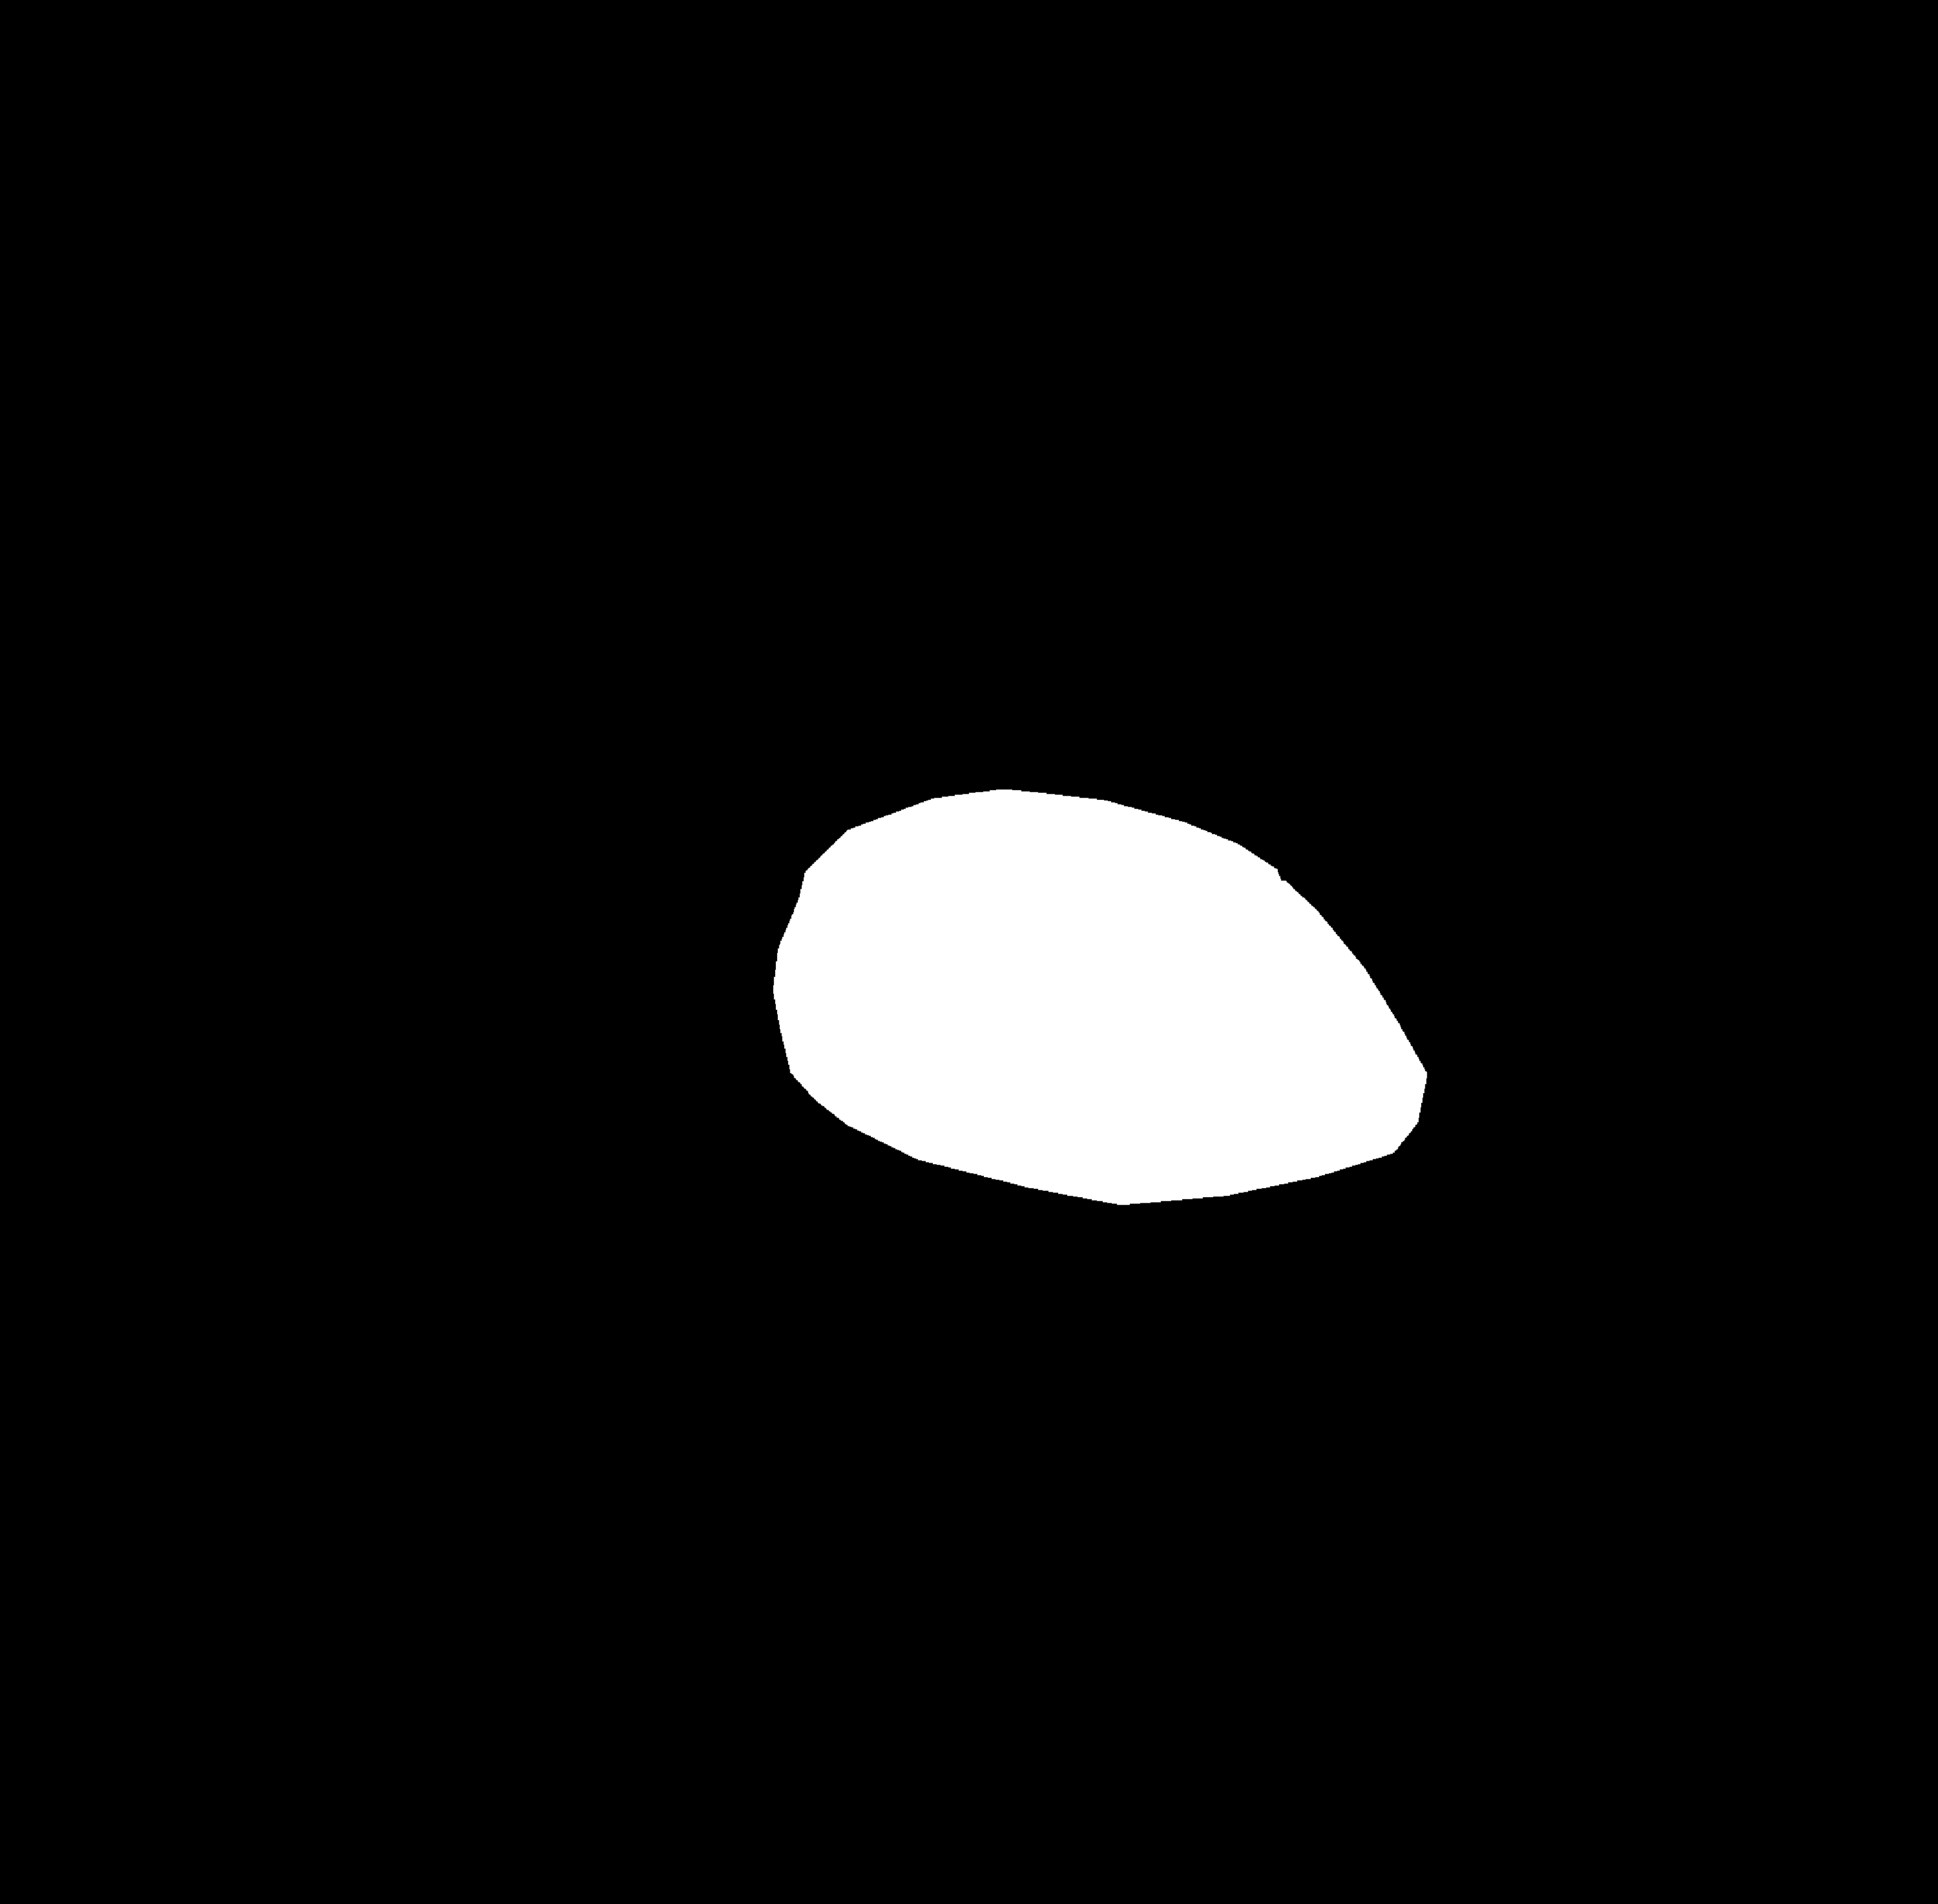heart: (774, 813, 1436, 1203)
left_lung: (399, 272, 950, 1289)
right_lung: (1040, 214, 1636, 1271)
